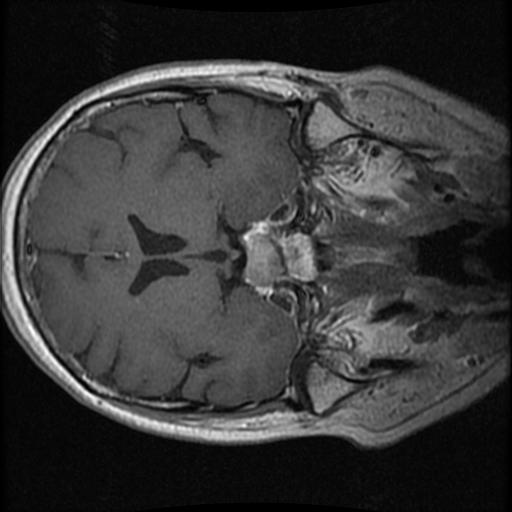pituitary tumour: (240, 218, 285, 298)
